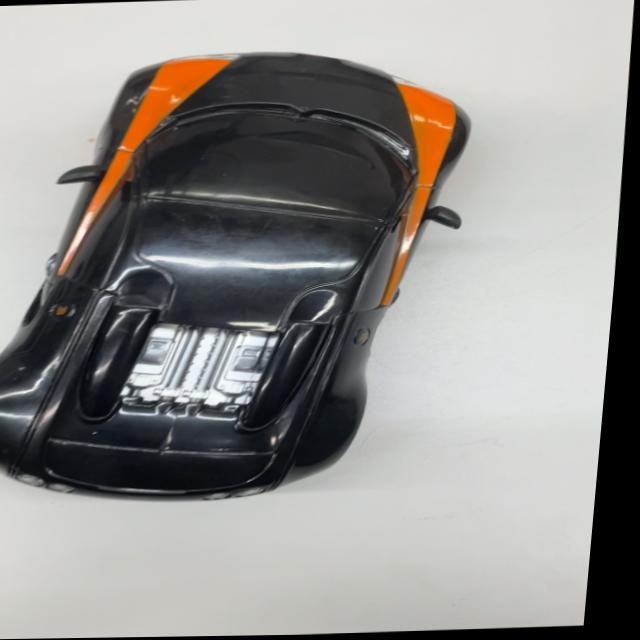vehicle_body: (0, 45, 489, 510)
